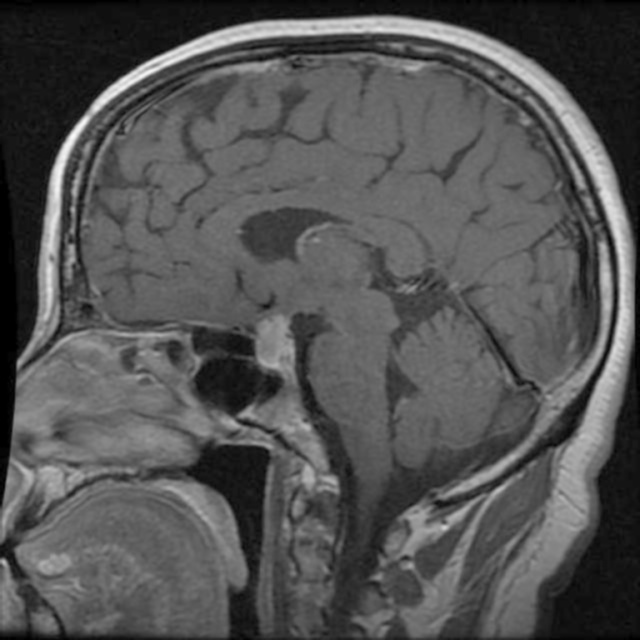no tumor: (254, 310, 308, 379)
